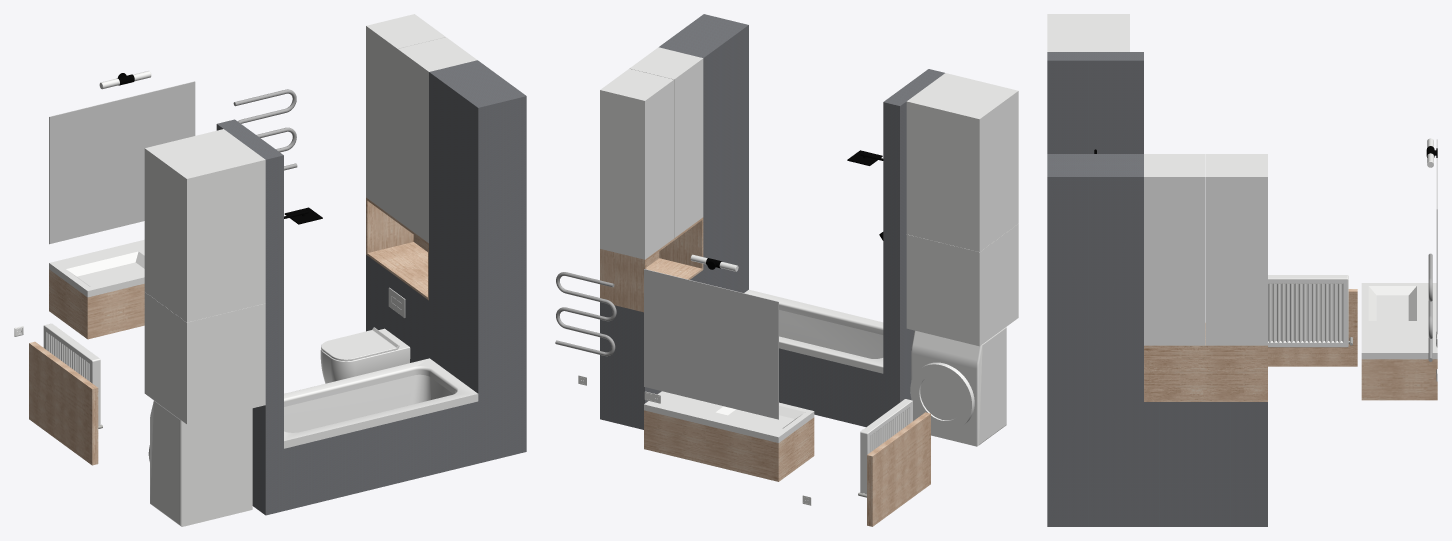
File: utility-room.glb
3 renders of one model, left to right at view 1: azimuth 30°, elevation 25°; view 2: azimuth 150°, elevation 25°; view 3: azimuth 270°, elevation 25°, orthographic. The views are drawn at different scales.
Parts seen in each view (by area): view 1: shower cabinet, washingmachine box 2, mirror, washingmachine box 1, Body4, washing machine, Body2, additional wall, toilet cabinet left, toilet cabinet right, radiator-stand, sink cabinet (+7 smaller); view 2: washingmachine box 2, mirror, shower cabinet, toilet cabinet left, washingmachine box 1, washing machine, additional wall, sink cabinet, toilet cabinet right, Body4, Body2, toilet back (+5 smaller); view 3: shower cabinet, toilet back, toilet cabinet left, toilet cabinet right, additional wall, toilet shelf, Body1, sink, sink cabinet, washingmachine box 2, radiator-stand, radiator.
Boxes of the visible parts, x1,y1,x2,y2 form: shower cabinet: (429, 60, 526, 463); washingmachine box 2: (144, 129, 265, 322); mirror: (49, 81, 195, 244); washingmachine box 1: (144, 292, 265, 424); Body4: (284, 401, 478, 510); washing machine: (148, 400, 252, 526); Body2: (284, 358, 478, 448); additional wall: (216, 119, 283, 515); toilet cabinet left: (366, 14, 445, 219); toilet cabinet right: (397, 37, 477, 242); radiator-stand: (29, 341, 98, 465); sink cabinet: (49, 269, 144, 339); washingmachine box 2: (906, 73, 1018, 251); mirror: (644, 269, 778, 419); shower cabinet: (659, 14, 748, 292); toilet cabinet left: (600, 68, 673, 259); washingmachine box 1: (906, 224, 1018, 346); washing machine: (910, 327, 1006, 446); additional wall: (883, 69, 944, 414); sink cabinet: (644, 410, 814, 481); toilet cabinet right: (629, 47, 703, 238); Body4: (779, 348, 883, 426); Body2: (744, 289, 883, 373); toilet back: (600, 270, 703, 429); shower cabinet: (1047, 154, 1143, 526); toilet back: (1144, 402, 1267, 526); toilet cabinet left: (1206, 154, 1267, 345); toilet cabinet right: (1144, 154, 1205, 345); additional wall: (1047, 52, 1143, 153); toilet shelf: (1144, 323, 1267, 401); Body1: (1268, 275, 1348, 347); sink: (1361, 283, 1437, 359); sink cabinet: (1361, 359, 1437, 400); washingmachine box 2: (1047, 14, 1129, 51); radiator-stand: (1268, 289, 1357, 366); radiator: (1428, 253, 1432, 361).
Bounding box in the file's own units: 2.8 × 2.8 × 2.83.
Materials: 9 (2 with a texture image).
